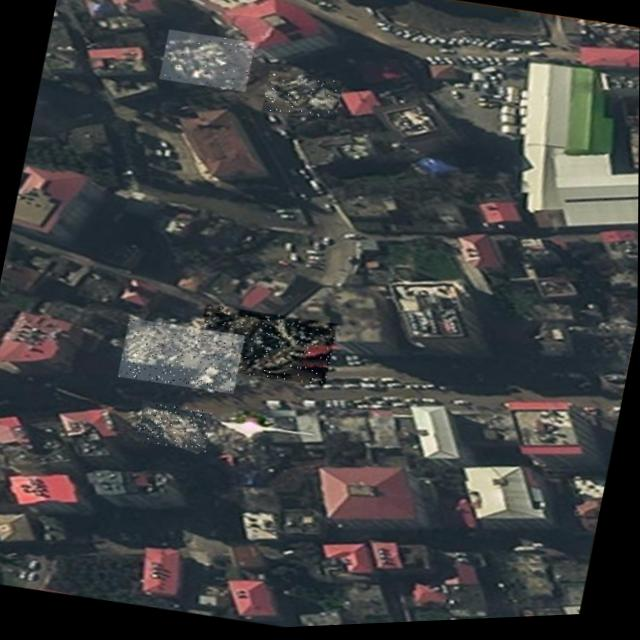Rubble: (193, 302, 337, 394), (117, 315, 245, 400), (158, 28, 254, 97), (133, 398, 214, 456), (261, 70, 343, 127)
